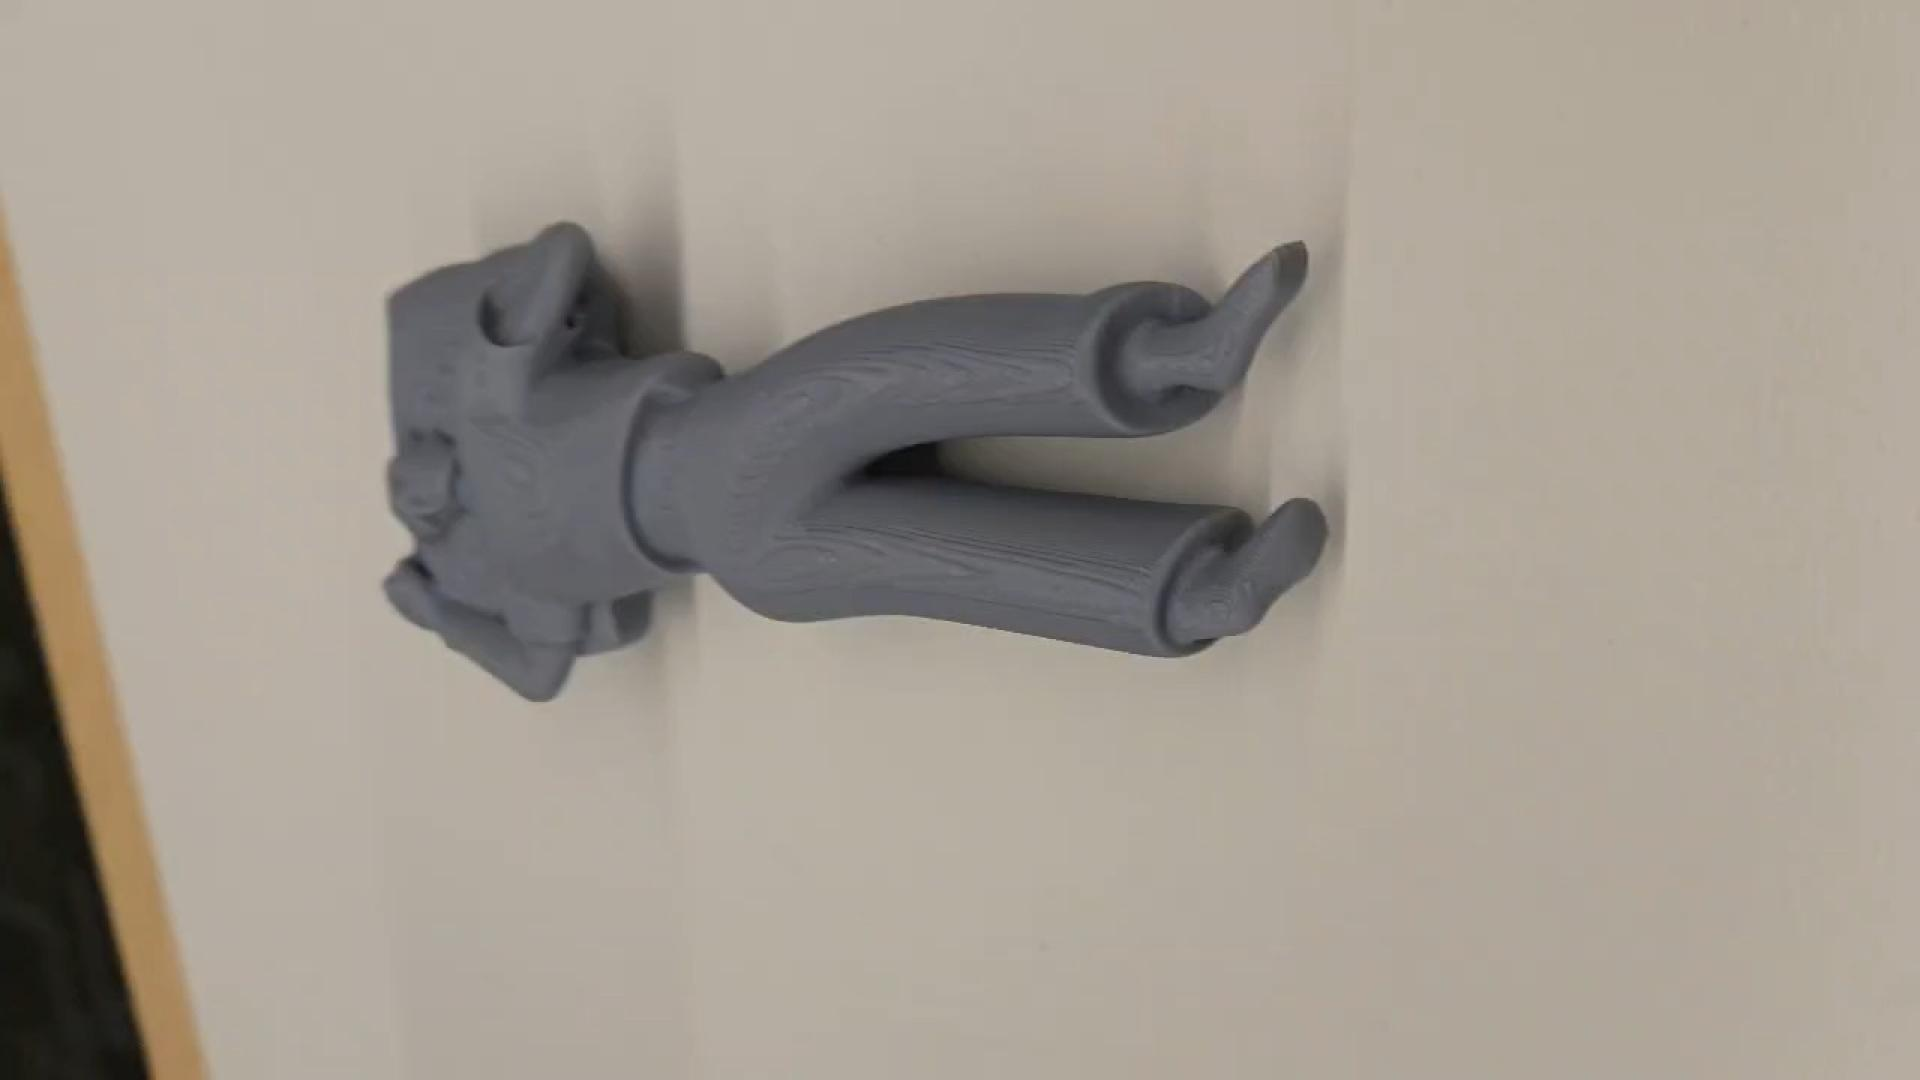Bad-style: (372, 215, 1331, 704)
